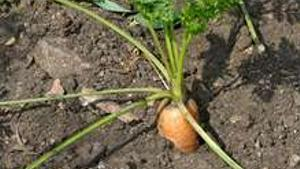carrot: (157, 72, 206, 152)
